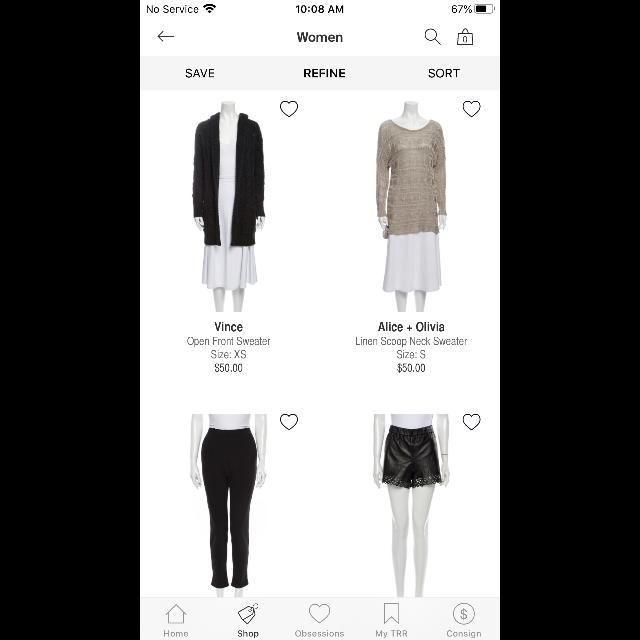icon: (166, 604, 187, 624), (454, 604, 474, 624), (310, 604, 330, 624), (238, 604, 258, 624), (384, 602, 398, 624), (280, 414, 298, 430), (280, 101, 298, 117), (464, 414, 481, 430), (464, 101, 481, 117), (425, 29, 441, 45), (158, 32, 174, 42)
image: (192, 101, 266, 312), (377, 101, 448, 312), (372, 414, 450, 598), (190, 414, 268, 598)
text: (357, 337, 468, 348), (188, 337, 270, 347), (378, 322, 444, 332), (298, 32, 342, 42), (305, 69, 345, 77), (428, 68, 459, 78), (296, 630, 344, 636), (215, 322, 243, 332), (186, 68, 214, 78), (212, 350, 246, 358), (447, 630, 481, 638), (457, 29, 473, 45), (215, 363, 242, 372), (376, 630, 406, 638), (398, 363, 424, 372), (397, 350, 425, 358), (238, 630, 258, 638), (164, 630, 188, 636)
uppertaskbar: (140, 0, 500, 14)
